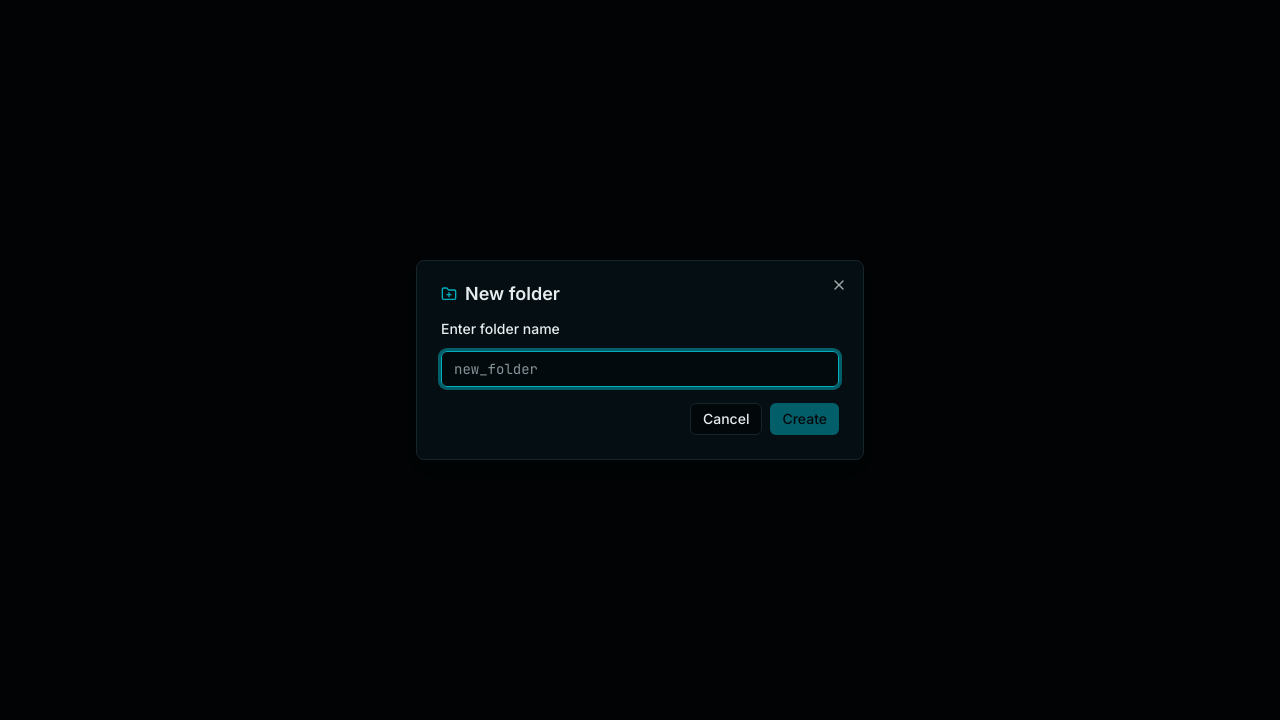
Test: CreateFolderDialog › should show error for . or .. name
In the field with placeholder "new_folder": (640, 369) 441,351 -> 839,387, type "."
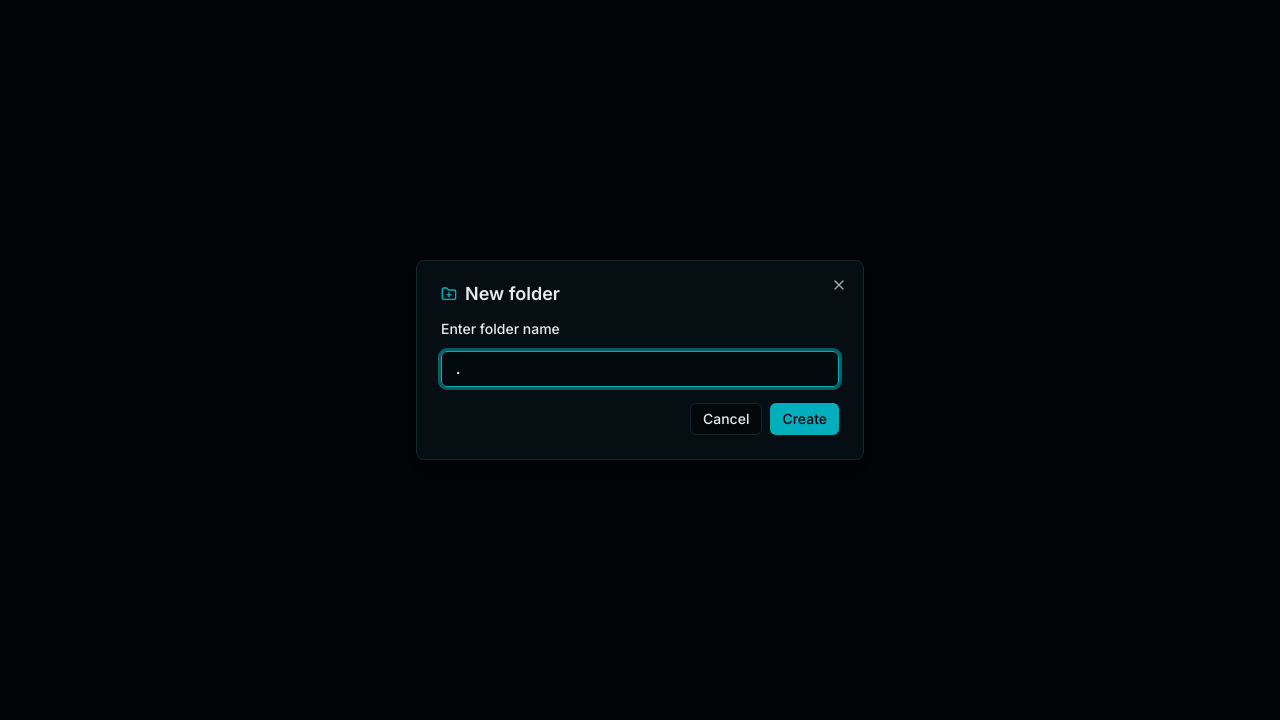
Click the button "Create": (805, 419) 770,403 -> 839,435
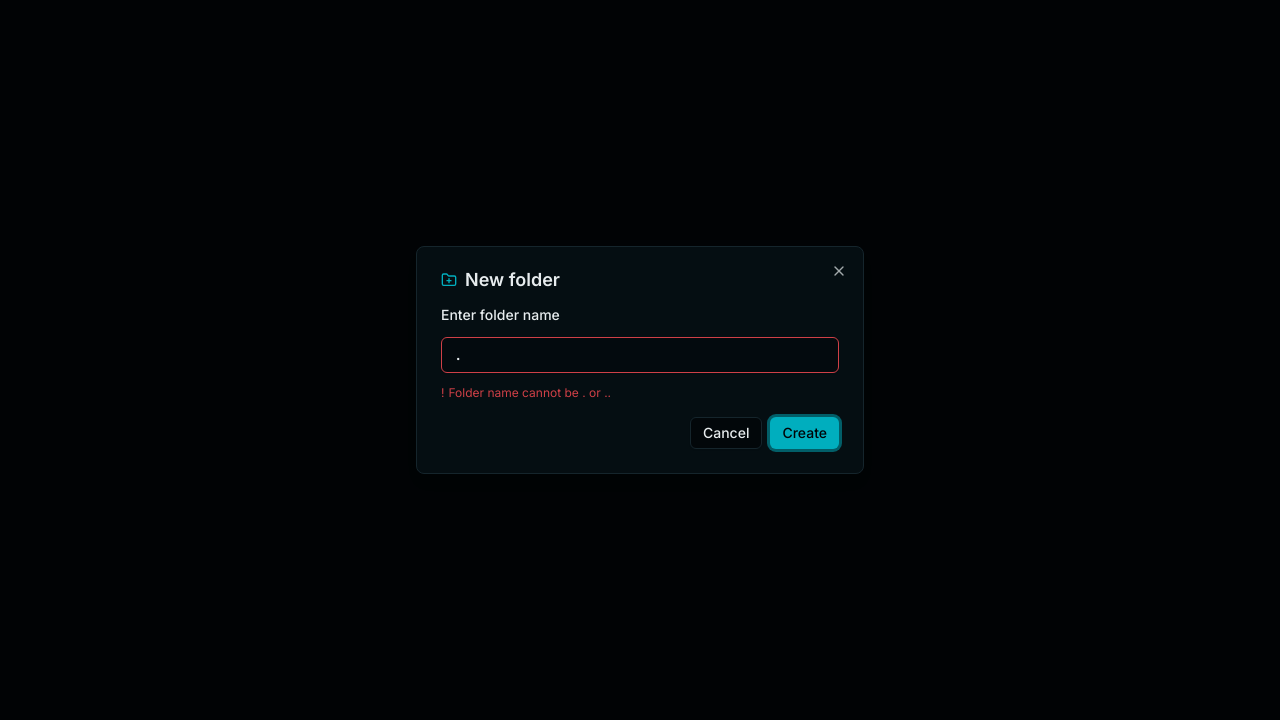
Now the text "! Folder name cannot be . or .." is shown, box 441,385 -> 611,400
